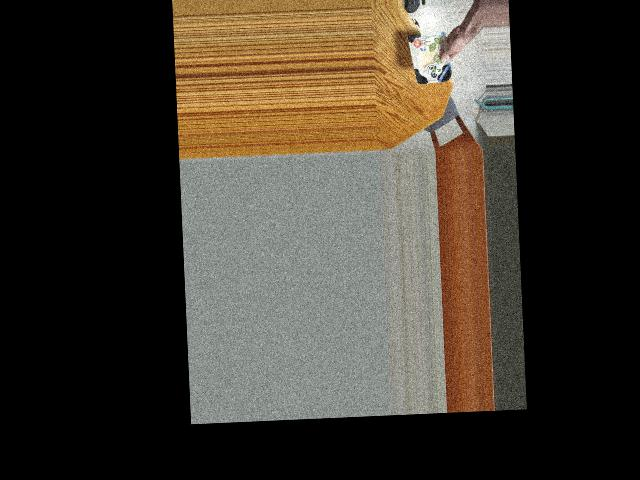cheese: (407, 25, 454, 91)
